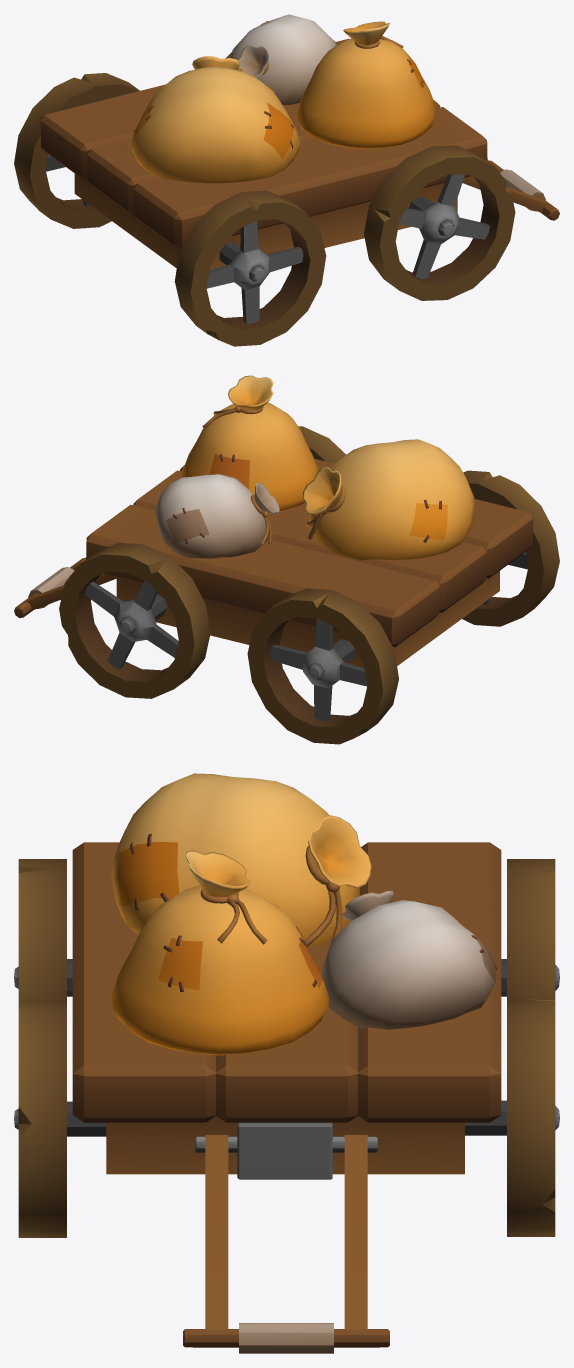
Rendered from obj_SackrugCart.fbx.
3 renders of one model, top to bottom at view 1: azimuth 30°, elevation 25°; view 2: azimuth 150°, elevation 25°; view 3: azimuth 270°, elevation 25°, orthographic. The views are drawn at different scales.
Visible parts, largest first — view 1: obj_SackrugCart; view 2: obj_SackrugCart; view 3: obj_SackrugCart.
Part boxes in pixels (box(x1,y1,x2,y2)): obj_SackrugCart: box(14, 14, 559, 346); obj_SackrugCart: box(14, 375, 559, 744); obj_SackrugCart: box(14, 773, 559, 1353).
Bounding box in the file's own units: 124 × 66.64 × 90.45.
